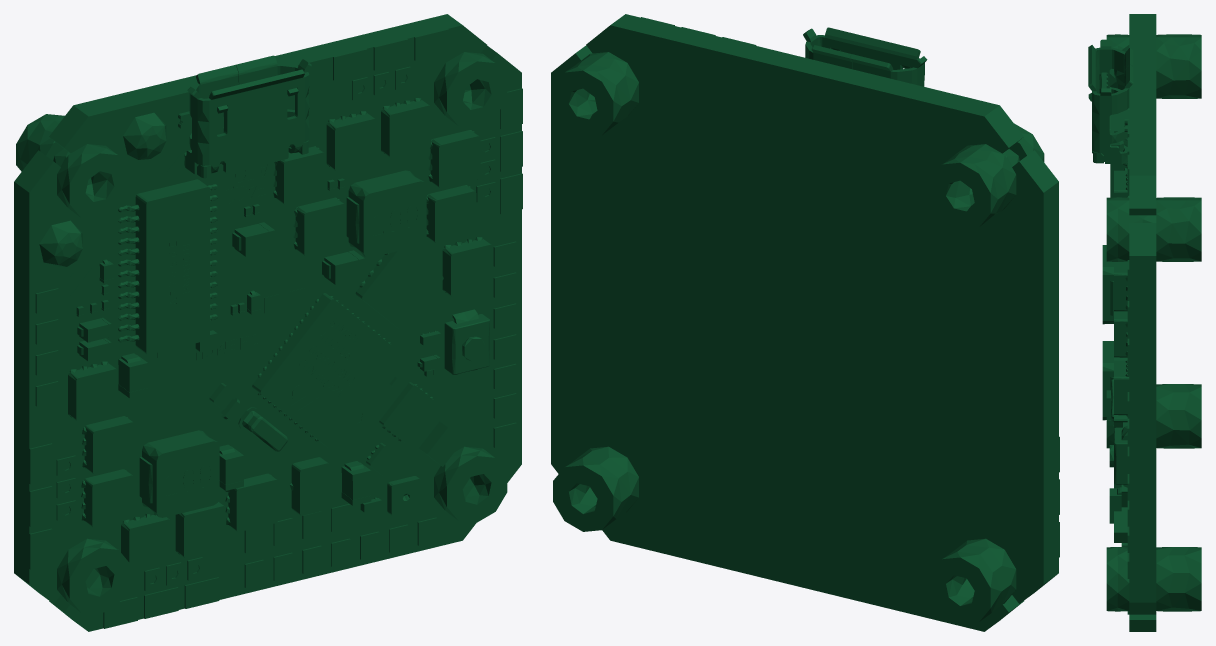
The model's file is ghf411.glb.
3 renders of one model, left to right at view 1: azimuth 30°, elevation 25°; view 2: azimuth 150°, elevation 25°; view 3: azimuth 270°, elevation 25°, orthographic. The views are drawn at different scales.
Visible parts, largest first — view 1: ghf411; view 2: ghf411; view 3: ghf411.
Part boxes in pixels (box(x1,y1,x2,y2)): ghf411: box(14, 14, 522, 631); ghf411: box(551, 14, 1059, 631); ghf411: box(1088, 14, 1201, 631).
Size of the model in its own units: 0.0333 by 0.0343 by 0.00751.
